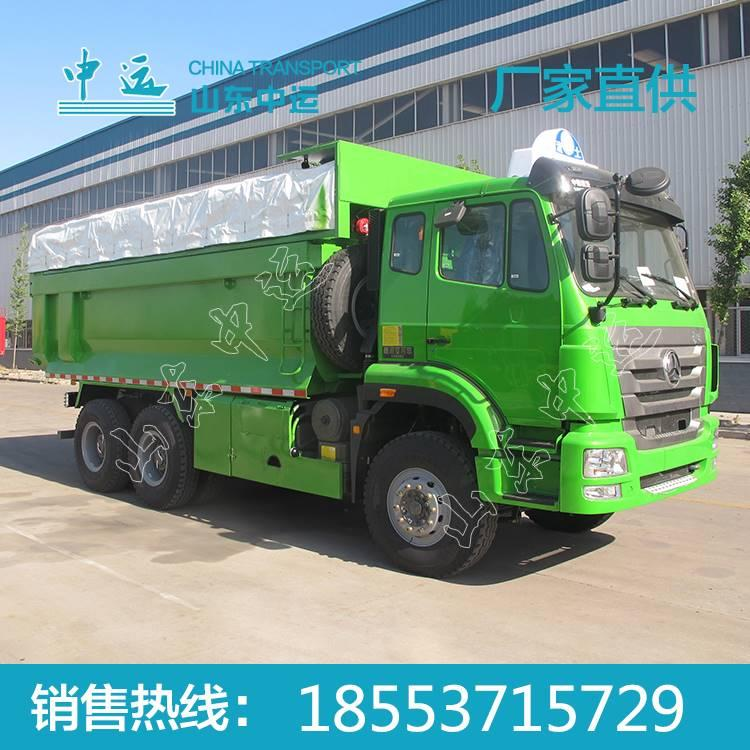truck: (26, 131, 730, 583)
